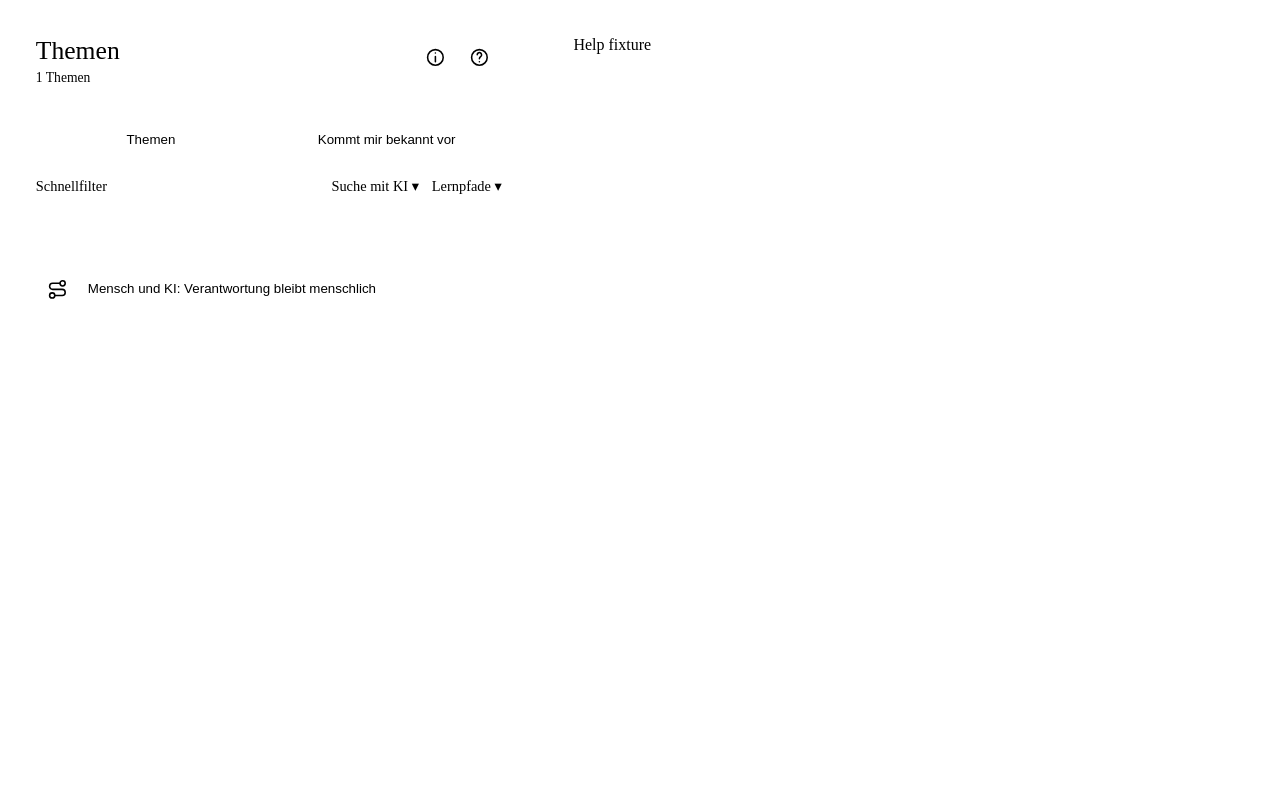
Test: TopicBrowser › marks only audio sources and shows duration after the linked title
Click the button "Mensch und KI: Verantwortung bleibt menschlich".
click(292, 289)  # box [82, 261, 502, 317]
(page scrolled)
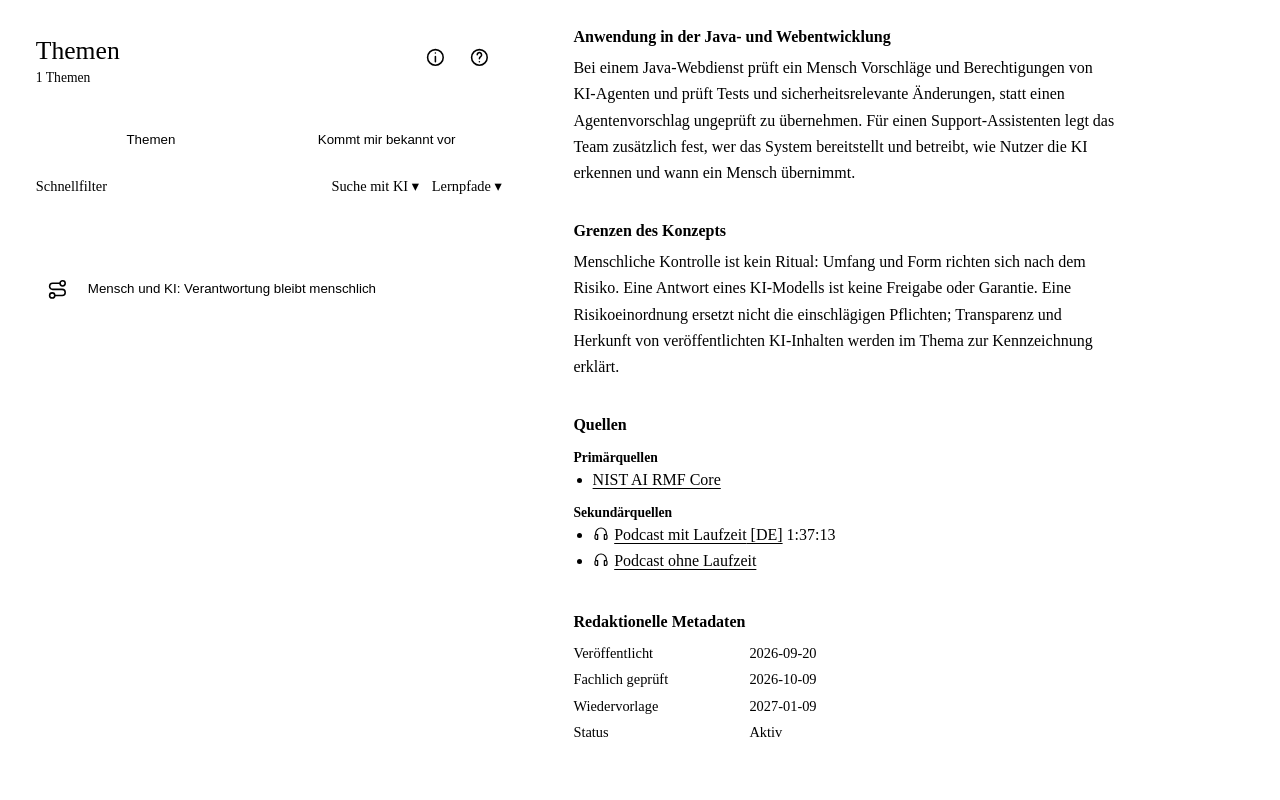
Result: the list item "NIST AI RMF Core" is shown at [593, 471, 721, 488]
Result: the list item "Podcast mit Laufzeit [DE] 1:37:13" is shown at [593, 526, 836, 543]
Result: the list item "Podcast ohne Laufzeit" is shown at [593, 552, 756, 569]
